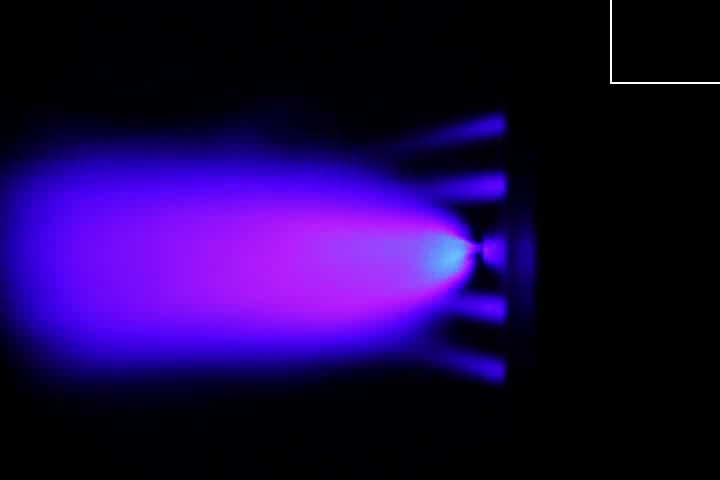burner cap: (483, 234, 508, 270)
pilot flame: (421, 342, 507, 386), (408, 111, 505, 146), (441, 293, 515, 327), (420, 176, 509, 204)
stable: (227, 209, 483, 299)
